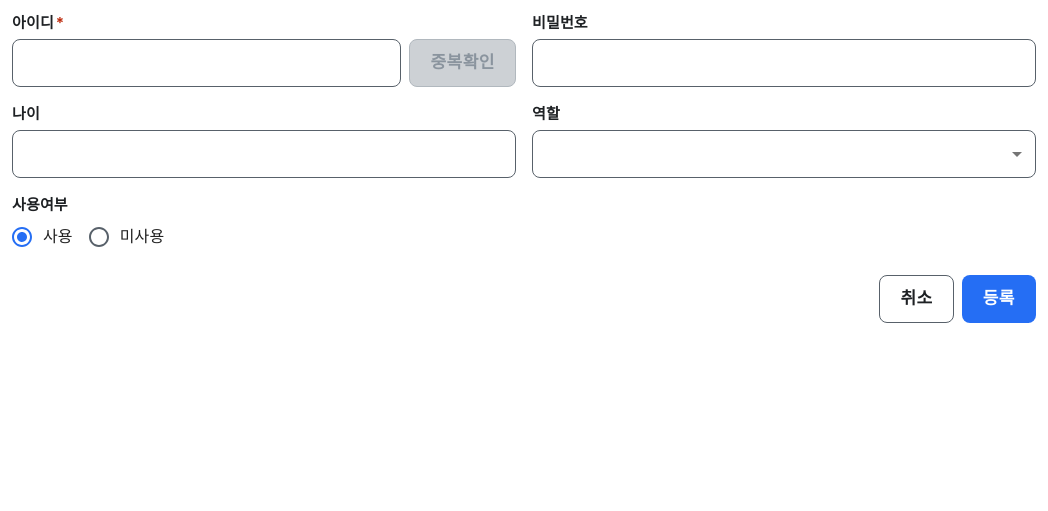
Test: MjForm › blocks submit on validation errors, shows messages, makes no request
The width and height of the screenshot is (1048, 511).
Type "500" into the number field labelled "나이" at {"x": 264, "y": 154}, box [12,130,516,178]
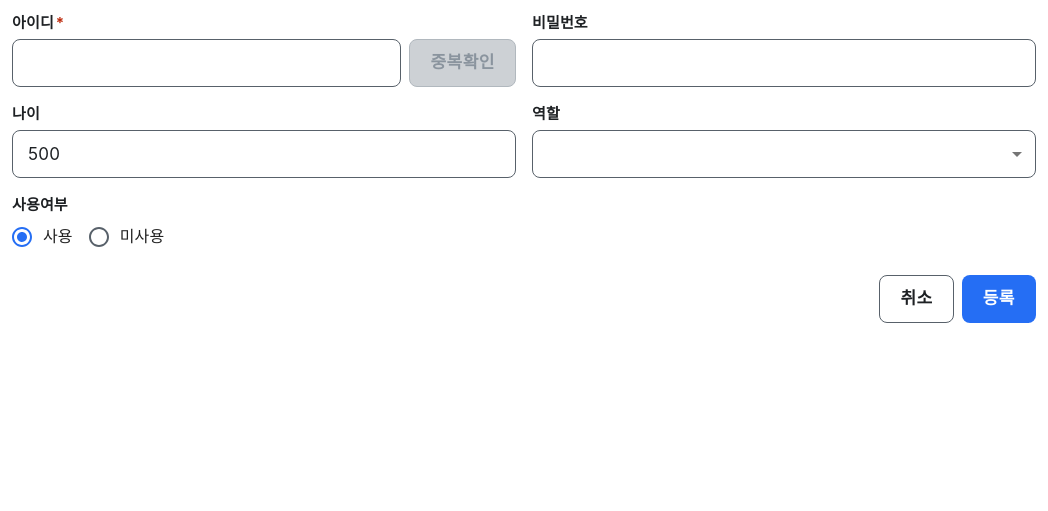
Click the button "등록" at {"x": 999, "y": 299}, box [962,275,1036,323]
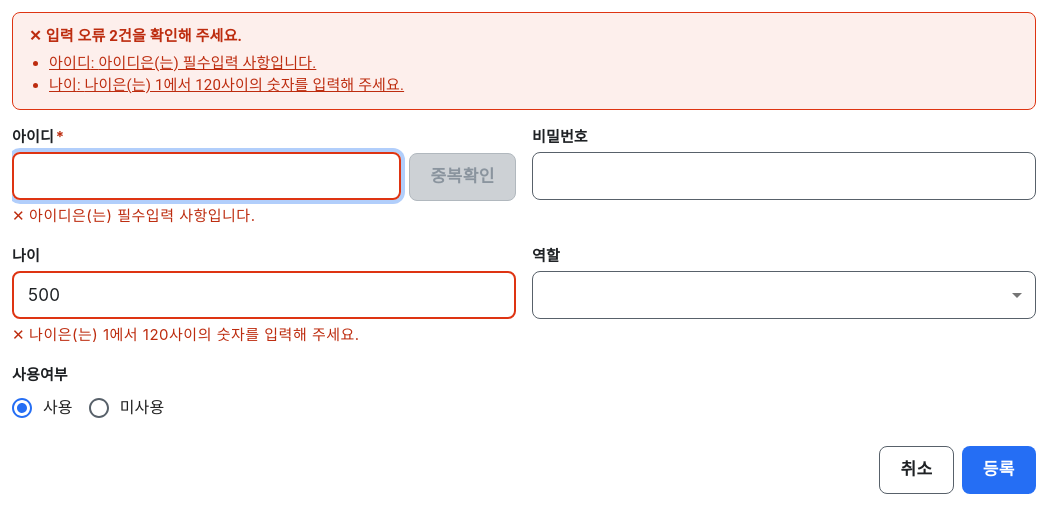
Now the text "아이디은(는) 필수입력 사항입니다." is shown, box [29,206,256,225]
Now the text "나이은(는) 1에서 120사이의 숫자를 입력해 주세요." is shown, box [29,325,360,344]
